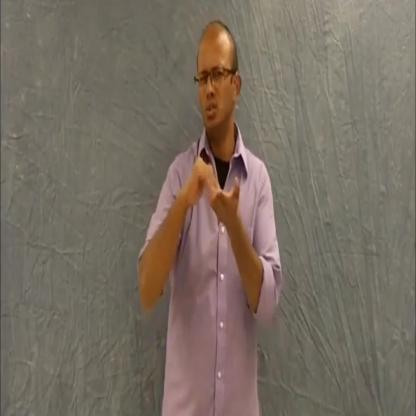ExcuseMe: (180, 142, 246, 243)
